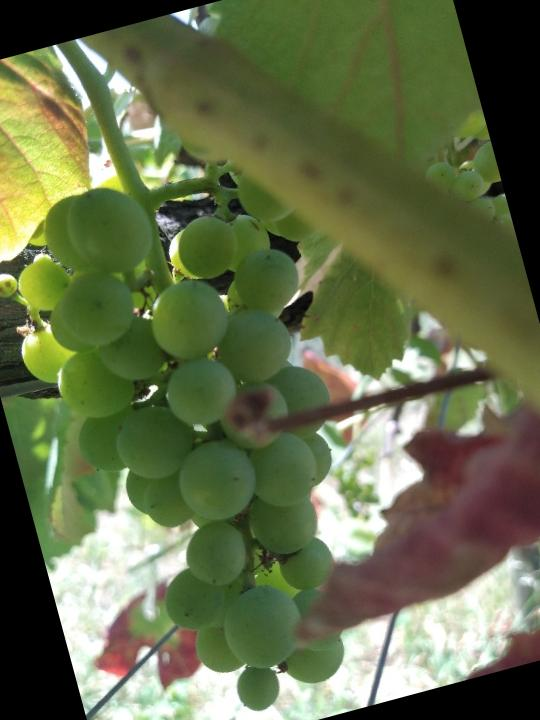grape: (0, 143, 406, 720)
